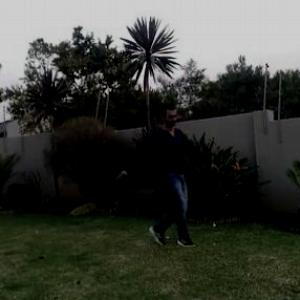land: (96, 81, 214, 274)
